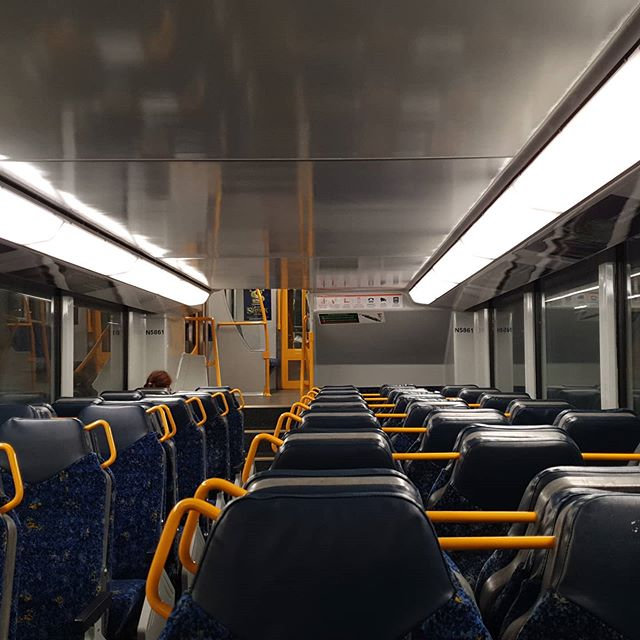chair: (178, 473, 479, 640), (507, 465, 640, 640), (1, 412, 103, 632), (102, 402, 168, 587)
